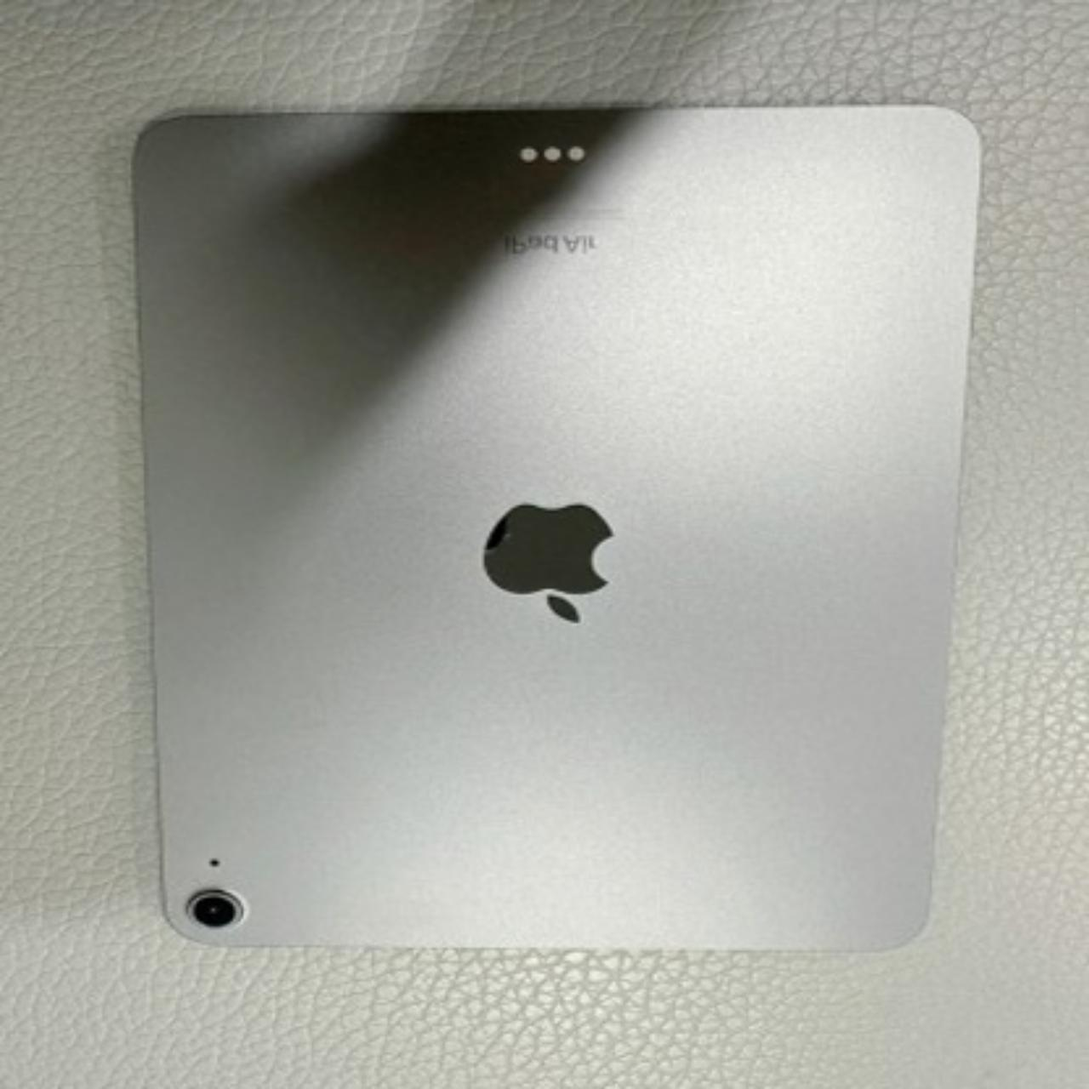Tablet_PC: (121, 74, 1006, 966)
